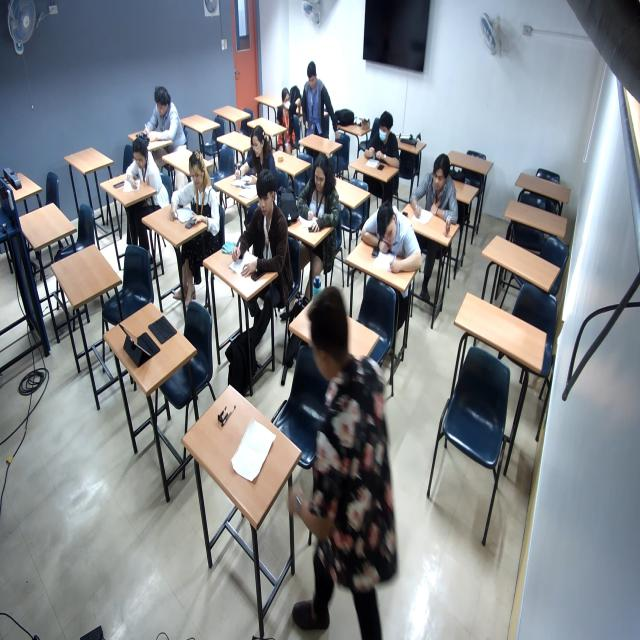read: (223, 175, 278, 286), (408, 156, 467, 235), (169, 152, 220, 242), (363, 204, 420, 281), (293, 162, 343, 234), (361, 115, 406, 181), (234, 121, 273, 196), (138, 86, 182, 149), (117, 135, 157, 199)
